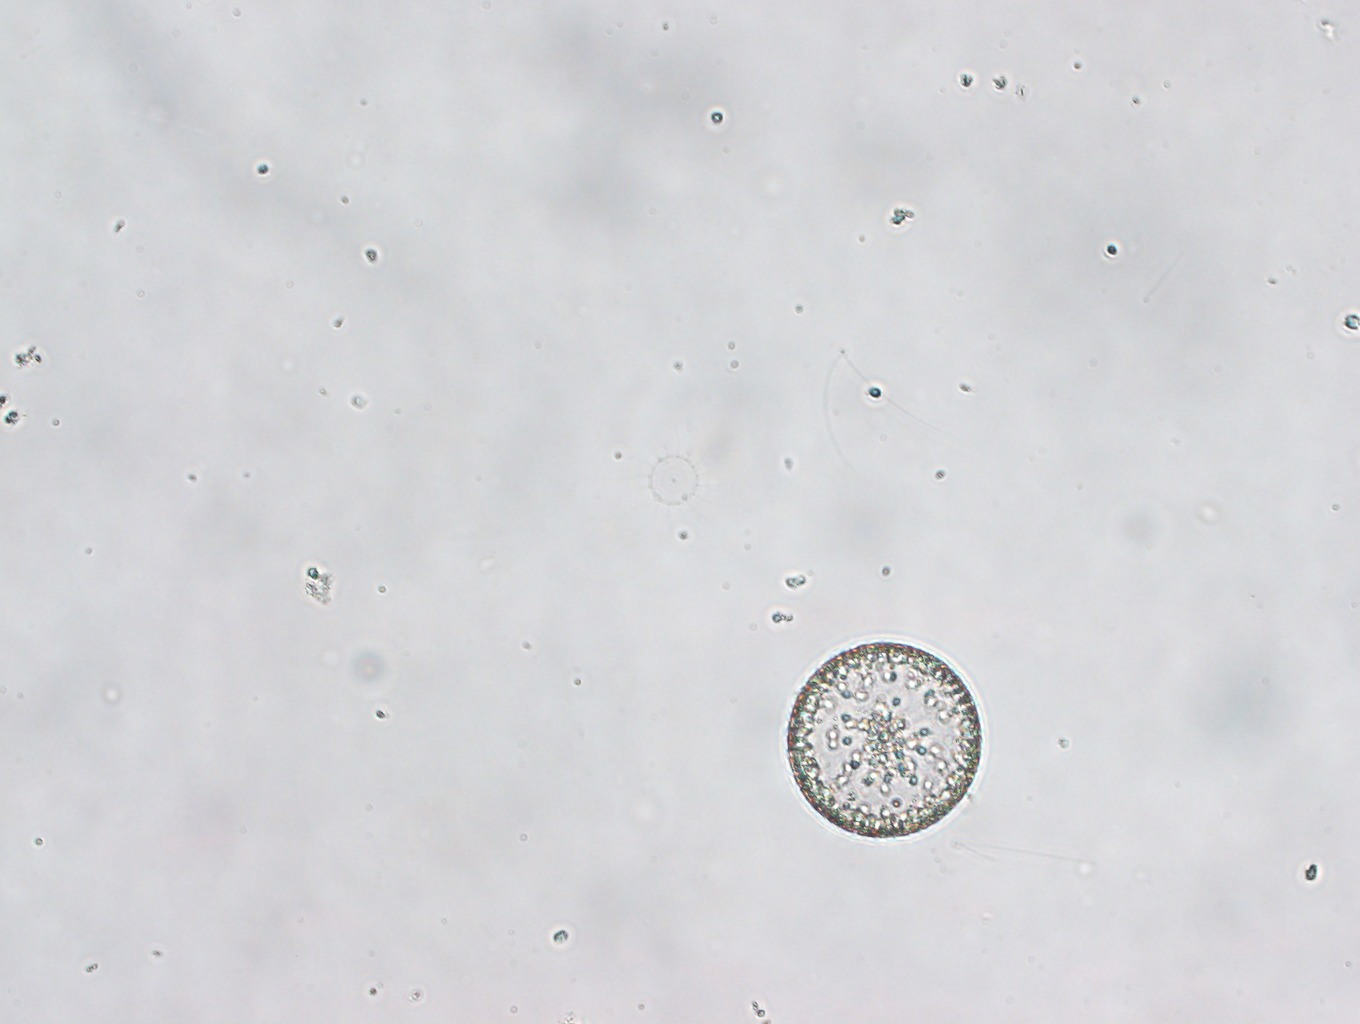coscinodiscus: (786, 639, 980, 839)
